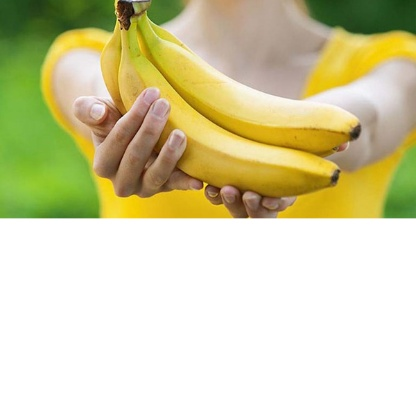chuoi: (102, 6, 350, 192)
